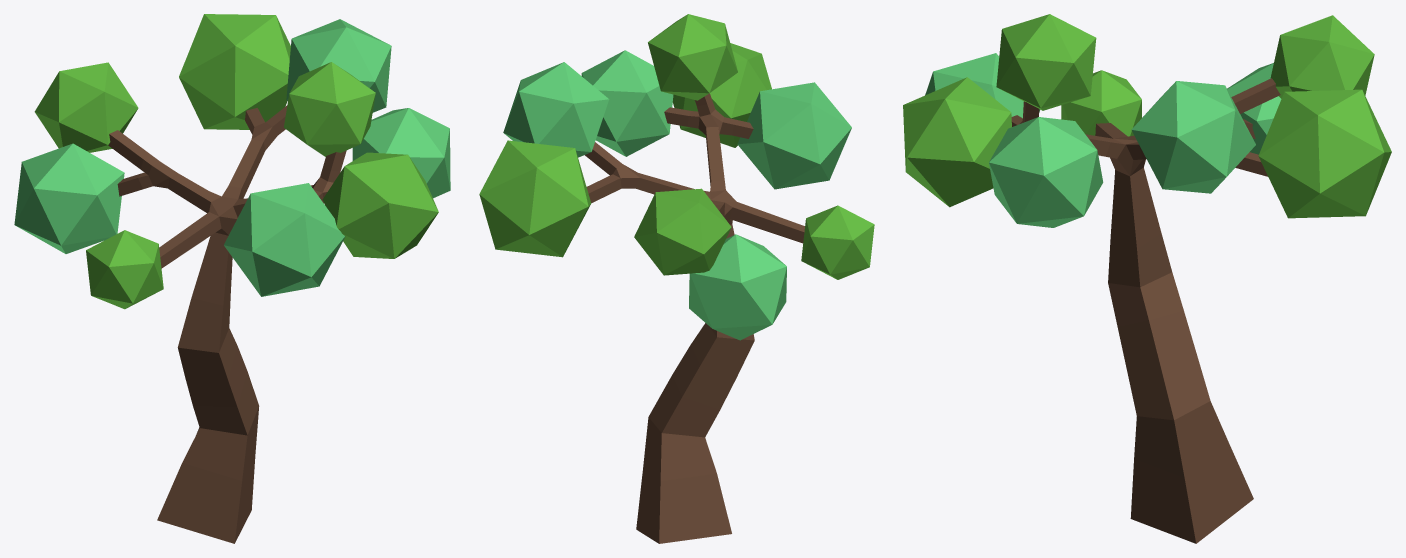
Rendered from tree1.fbx.
The picture shows the model from 3 angles, left to right: view 1: azimuth 30°, elevation 25°; view 2: azimuth 150°, elevation 25°; view 3: azimuth 270°, elevation 25°; orthographic projection. The views are drawn at different scales.
Parts seen in each view (by area): view 1: Cube, Icosphere.006, Icosphere.001, Icosphere.008, Icosphere.002, Icosphere.007, Icosphere.003, Icosphere.005, Icosphere.004, Icosphere; view 2: Cube, Icosphere.006, Icosphere.001, Icosphere.008, Icosphere.005, Icosphere.007, Icosphere.004, Icosphere.003, Icosphere, Icosphere.002; view 3: Cube, Icosphere.006, Icosphere.002, Icosphere.004, Icosphere.005, Icosphere.003, Icosphere.007, Icosphere, Icosphere.001, Icosphere.008.
Boxes of the visible parts, x1,y1,x2,y2 form: Cube: (108,105,346,543); Icosphere.006: (179,14,290,129); Icosphere.001: (224,183,345,296); Icosphere.008: (14,143,124,253); Icosphere.002: (322,152,438,258); Icosphere.007: (34,62,138,152); Icosphere.003: (284,62,375,156); Icosphere.005: (286,19,391,112); Icosphere.004: (352,108,450,198); Icosphere: (86,230,163,309); Cube: (585,93,804,543); Icosphere.006: (479,140,591,257); Icosphere.001: (737,82,851,189); Icosphere.008: (689,234,786,340); Icosphere.005: (503,62,609,157); Icosphere.007: (634,188,731,275); Icosphere.004: (581,50,673,156); Icosphere.003: (648,14,737,100); Icosphere: (801,205,874,279); Icosphere.002: (672,43,771,147); Cube: (1011,78,1280,543); Icosphere.006: (1258,89,1391,218); Icosphere.002: (903,77,1011,207); Icosphere.004: (989,117,1103,227); Icosphere.005: (1131,81,1255,193); Icosphere.003: (996,14,1096,110); Icosphere.007: (1270,15,1374,98); Icosphere: (1061,70,1141,136); Icosphere.001: (925,53,1039,118); Icosphere.008: (1227,63,1281,154).
Size of the model in its own units: 455 by 641 by 530.
